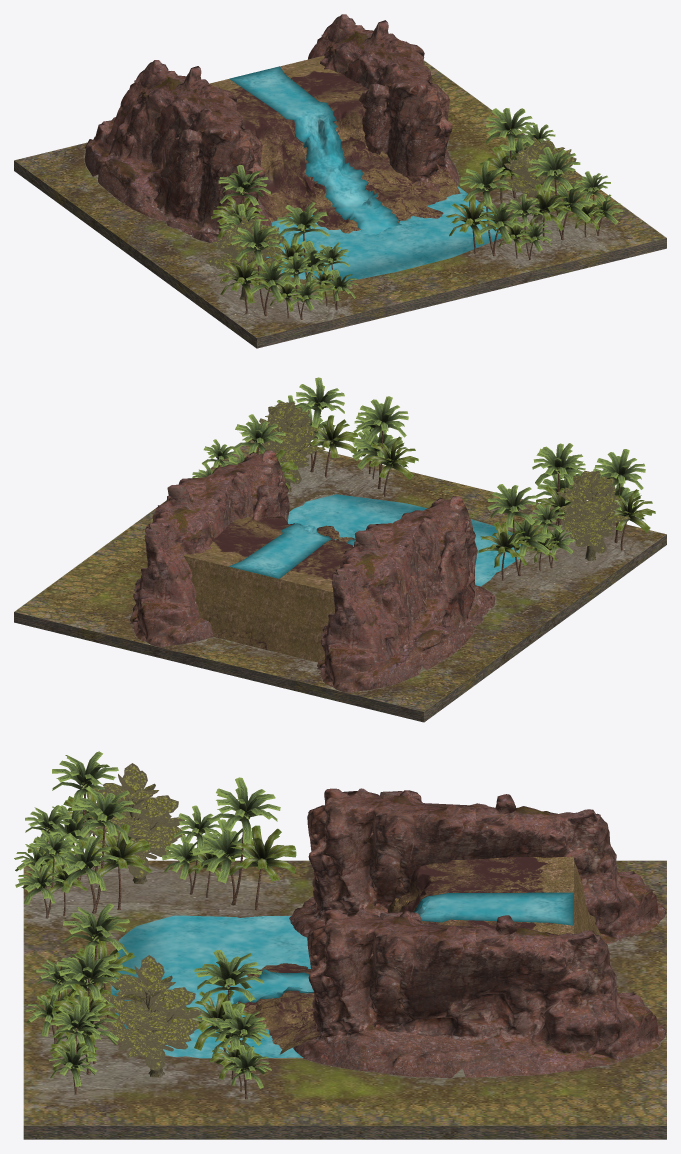
The model's file is terrain.fbx.
3 renders of one model, top to bottom at view 1: azimuth 30°, elevation 25°; view 2: azimuth 150°, elevation 25°; view 3: azimuth 270°, elevation 25°, orthographic. The views are drawn at different scales.
Parts seen in each view (by area): view 1: Terrain, Mountain_1, Tree02, Waterfall_mountain, Water_Base, Waterfall, Tree03; view 2: Terrain, Mountain_1, Tree02, back1, Tree03, Water_Base, Waterfall_mountain, Waterfall; view 3: Mountain_1, Terrain, Tree02, Water_Base, Tree03, Waterfall_mountain, Waterfall, back1.
Boxes of the visible parts, x1,y1,x2,y2 form: Terrain: (14,60,666,348); Mountain_1: (84,14,458,243); Tree02: (211,108,622,319); Waterfall_mountain: (179,55,460,233); Water_Base: (266,186,501,281); Waterfall: (229,66,401,234); Tree03: (205,137,576,300); Terrain: (14,439,666,722); Mountain_1: (129,450,495,692); Tree02: (192,377,655,580); back1: (184,556,334,662); Tree03: (253,401,630,560); Water_Base: (288,494,523,586); Waterfall_mountain: (183,515,373,601); Waterfall: (228,523,355,578); Mountain_1: (289,788,666,1078); Terrain: (23,860,666,1139); Tree02: (14,751,296,1099); Water_Base: (111,915,310,1058); Tree03: (81,763,201,1077); Waterfall_mountain: (237,856,573,1054); Waterfall: (226,892,573,1004); back1: (574,860,602,938).
Bounding box in the file's own units: 36.31 × 9.73 × 36.87.
